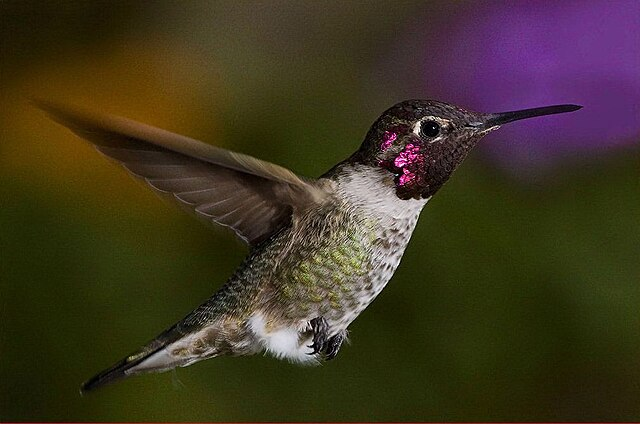calypte anna: (35, 97, 582, 396)
